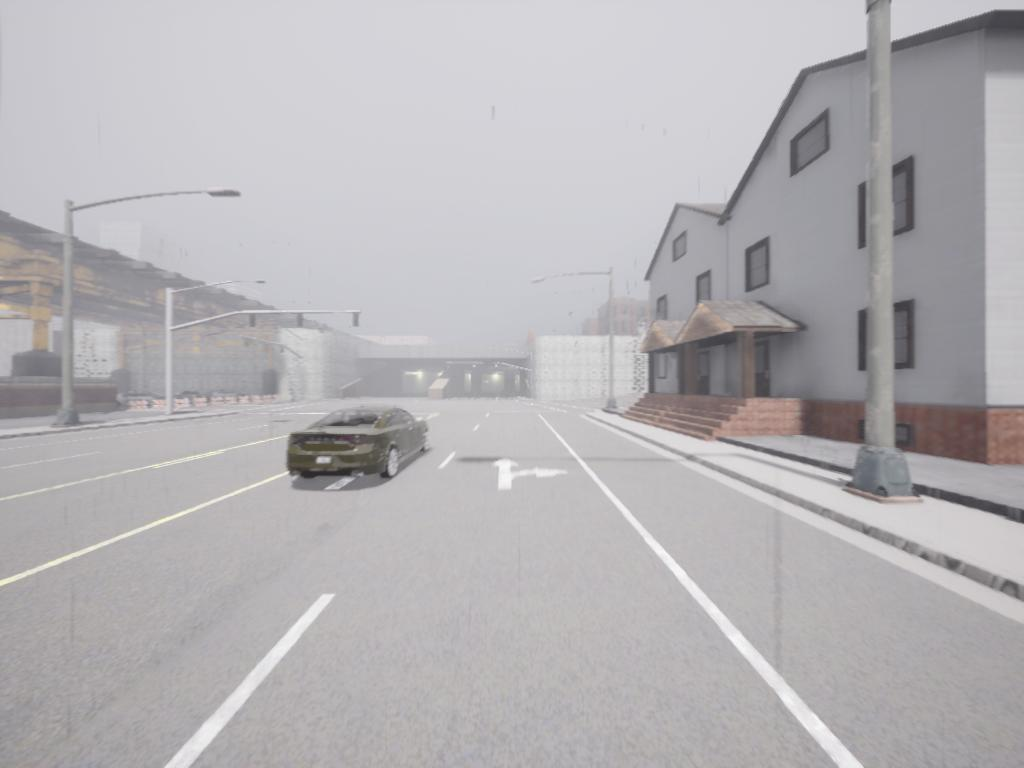traffic_light: (353, 313, 361, 327), (296, 313, 303, 328), (250, 313, 257, 328)
